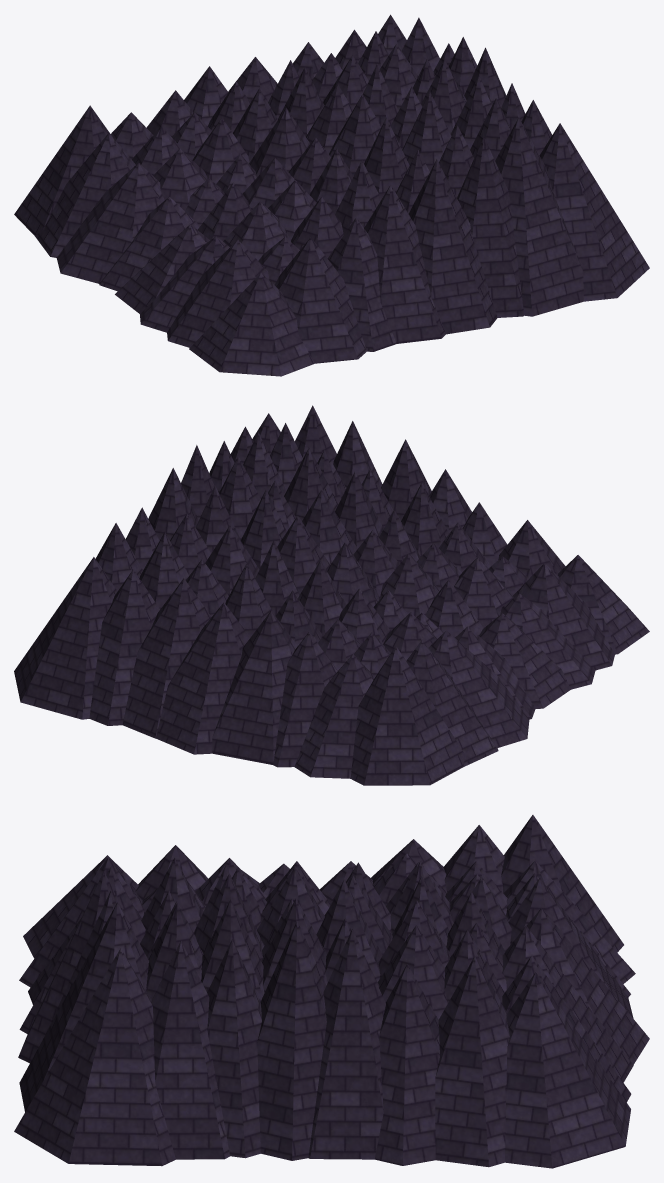
Rendered from chunk_1_24.glb.
The picture shows the model from 3 angles, top to bottom: view 1: azimuth 30°, elevation 25°; view 2: azimuth 150°, elevation 25°; view 3: azimuth 270°, elevation 25°; orthographic projection. The views are drawn at different scales.
Parts seen in each view (by area): view 1: chunk_1_24; view 2: chunk_1_24; view 3: chunk_1_24.
Boxes of the visible parts, <box> form: chunk_1_24: <box>14,14,649,376</box>; chunk_1_24: <box>14,405,649,785</box>; chunk_1_24: <box>14,815,649,1168</box>.
Bounding box in the file's own units: 21 × 7.46 × 21.09.
3 materials, 3 textured.
